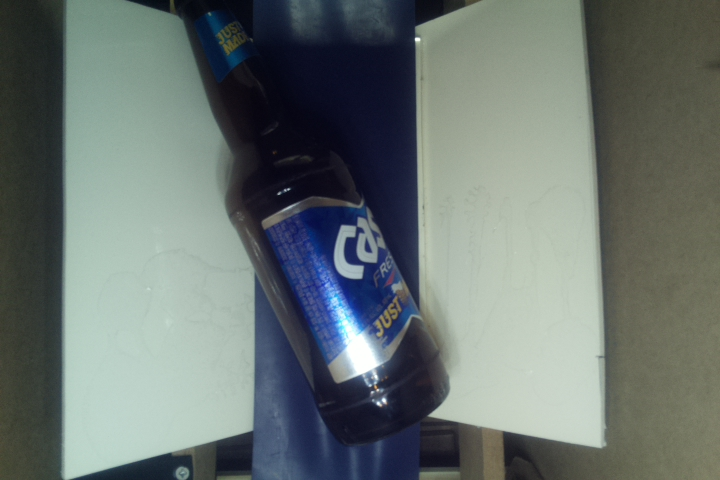makju: (178, 1, 460, 445)
